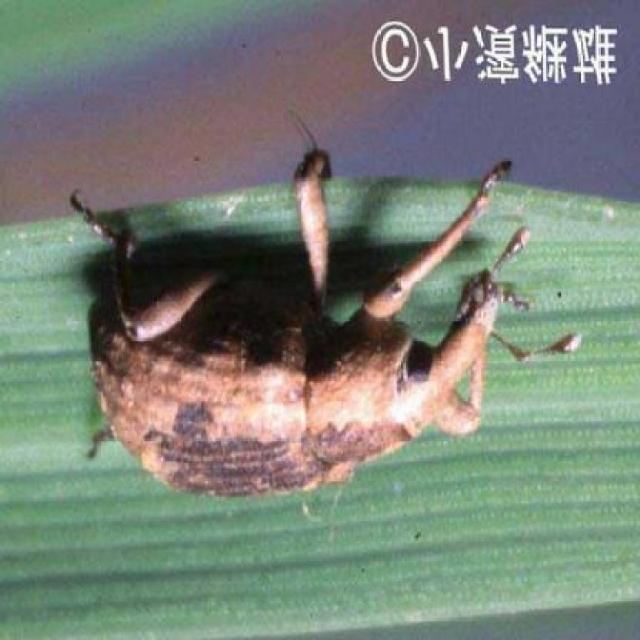rice-bug: (96, 196, 518, 501)
